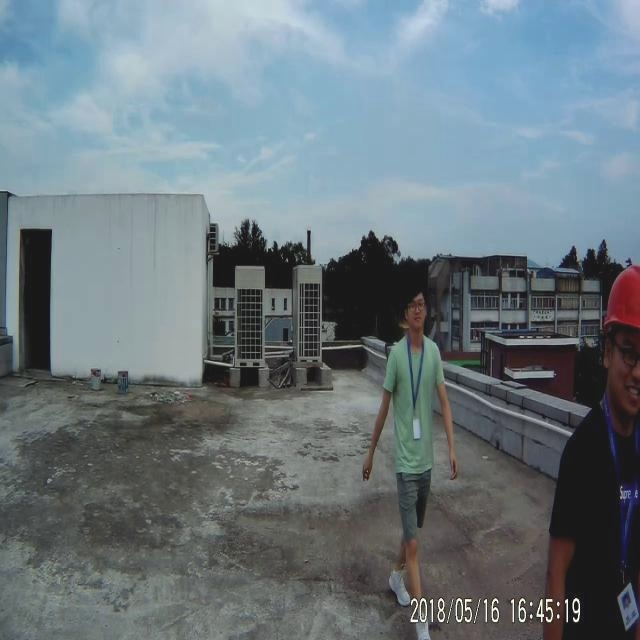Sin_Chaleco: (388, 335, 442, 471)
